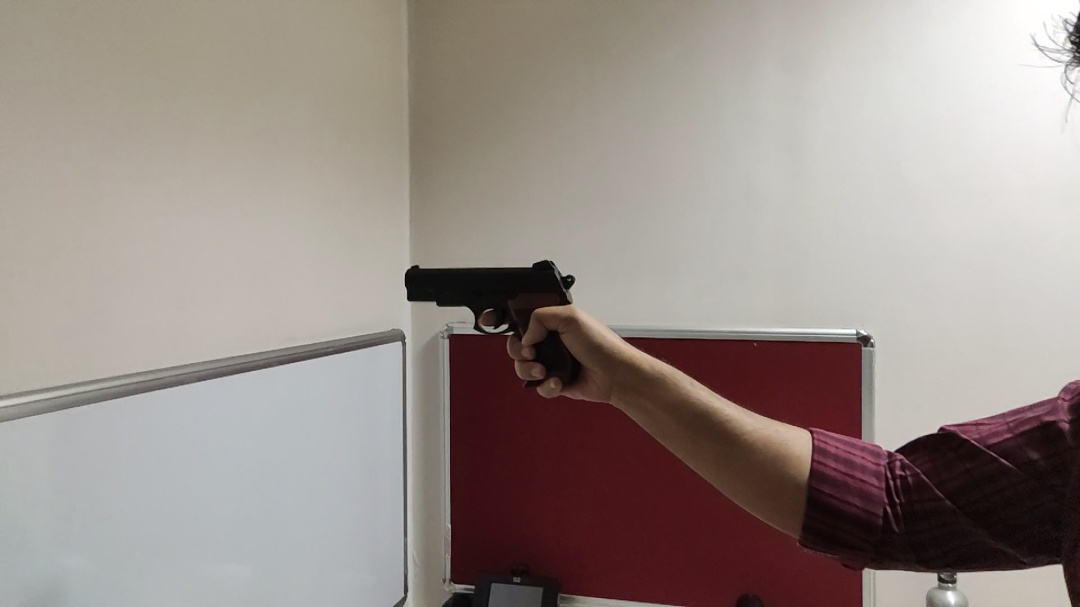gun: (403, 260, 585, 390)
